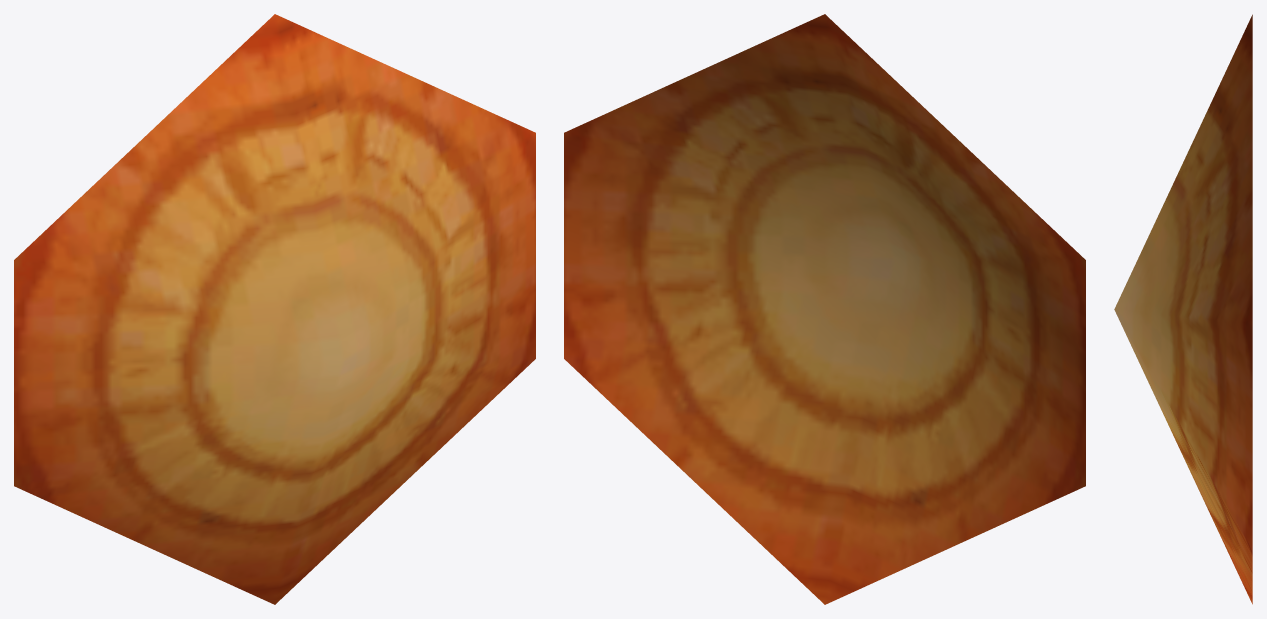
Rendered from hutt_fighter_heavy_engine_s02_on_l1.fbx.
3 views of the same model, side by side, from view 1: azimuth 30°, elevation 25°; view 2: azimuth 150°, elevation 25°; view 3: azimuth 270°, elevation 25° (orthographic).
Parts seen in each view (by area): view 1: mesh_node; view 2: mesh_node; view 3: mesh_node.
Boxes of the visible parts, bbox=[...] form: mesh_node: bbox=[14, 14, 535, 604]; mesh_node: bbox=[564, 14, 1085, 604]; mesh_node: bbox=[1114, 14, 1252, 604].
Size of the model in its own units: 1.81 by 1.96 by 0.4157.
1 material, 1 textured.
